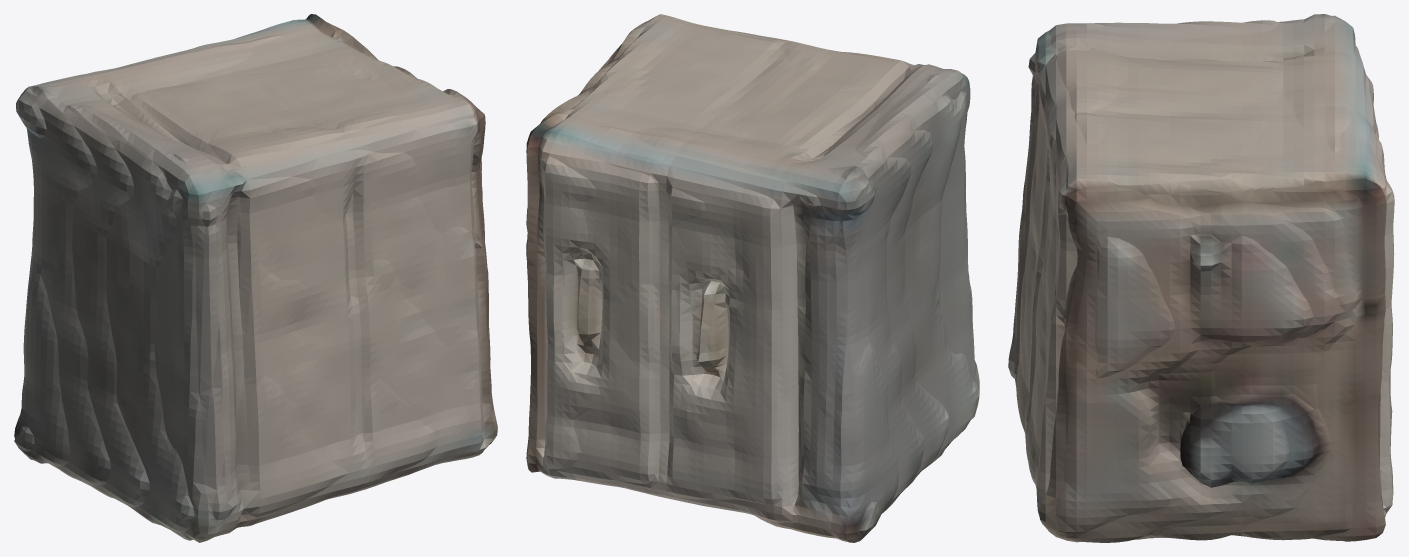
The model's file is nova-night-stand.glb.
The picture shows the model from 3 angles, left to right: view 1: azimuth 30°, elevation 25°; view 2: azimuth 150°, elevation 25°; view 3: azimuth 270°, elevation 25°; orthographic projection. The views are drawn at different scales.
Visible parts, largest first — view 1: orient; view 2: orient; view 3: orient.
Boxes of the visible parts, x1,y1,x2,y2 form: orient: (14,14,497,542); orient: (526,14,979,542); orient: (1008,14,1394,542).
Bounding box in the file's own units: 0.45 × 0.45 × 0.4.
